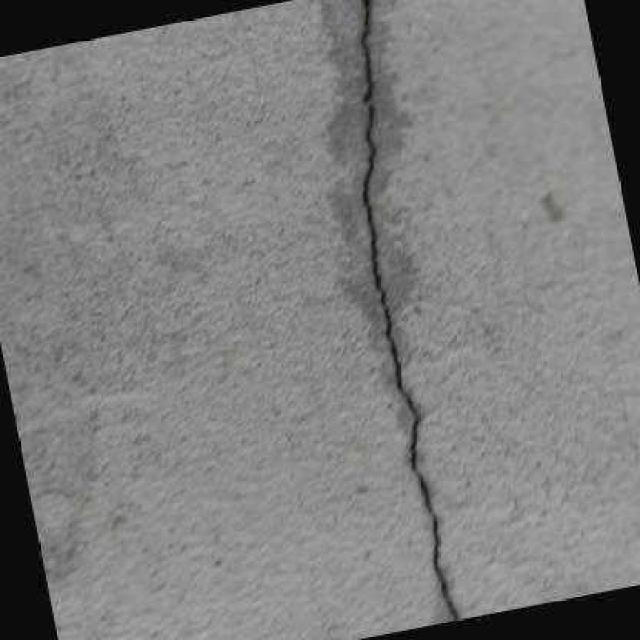D00: (359, 0, 457, 621)
